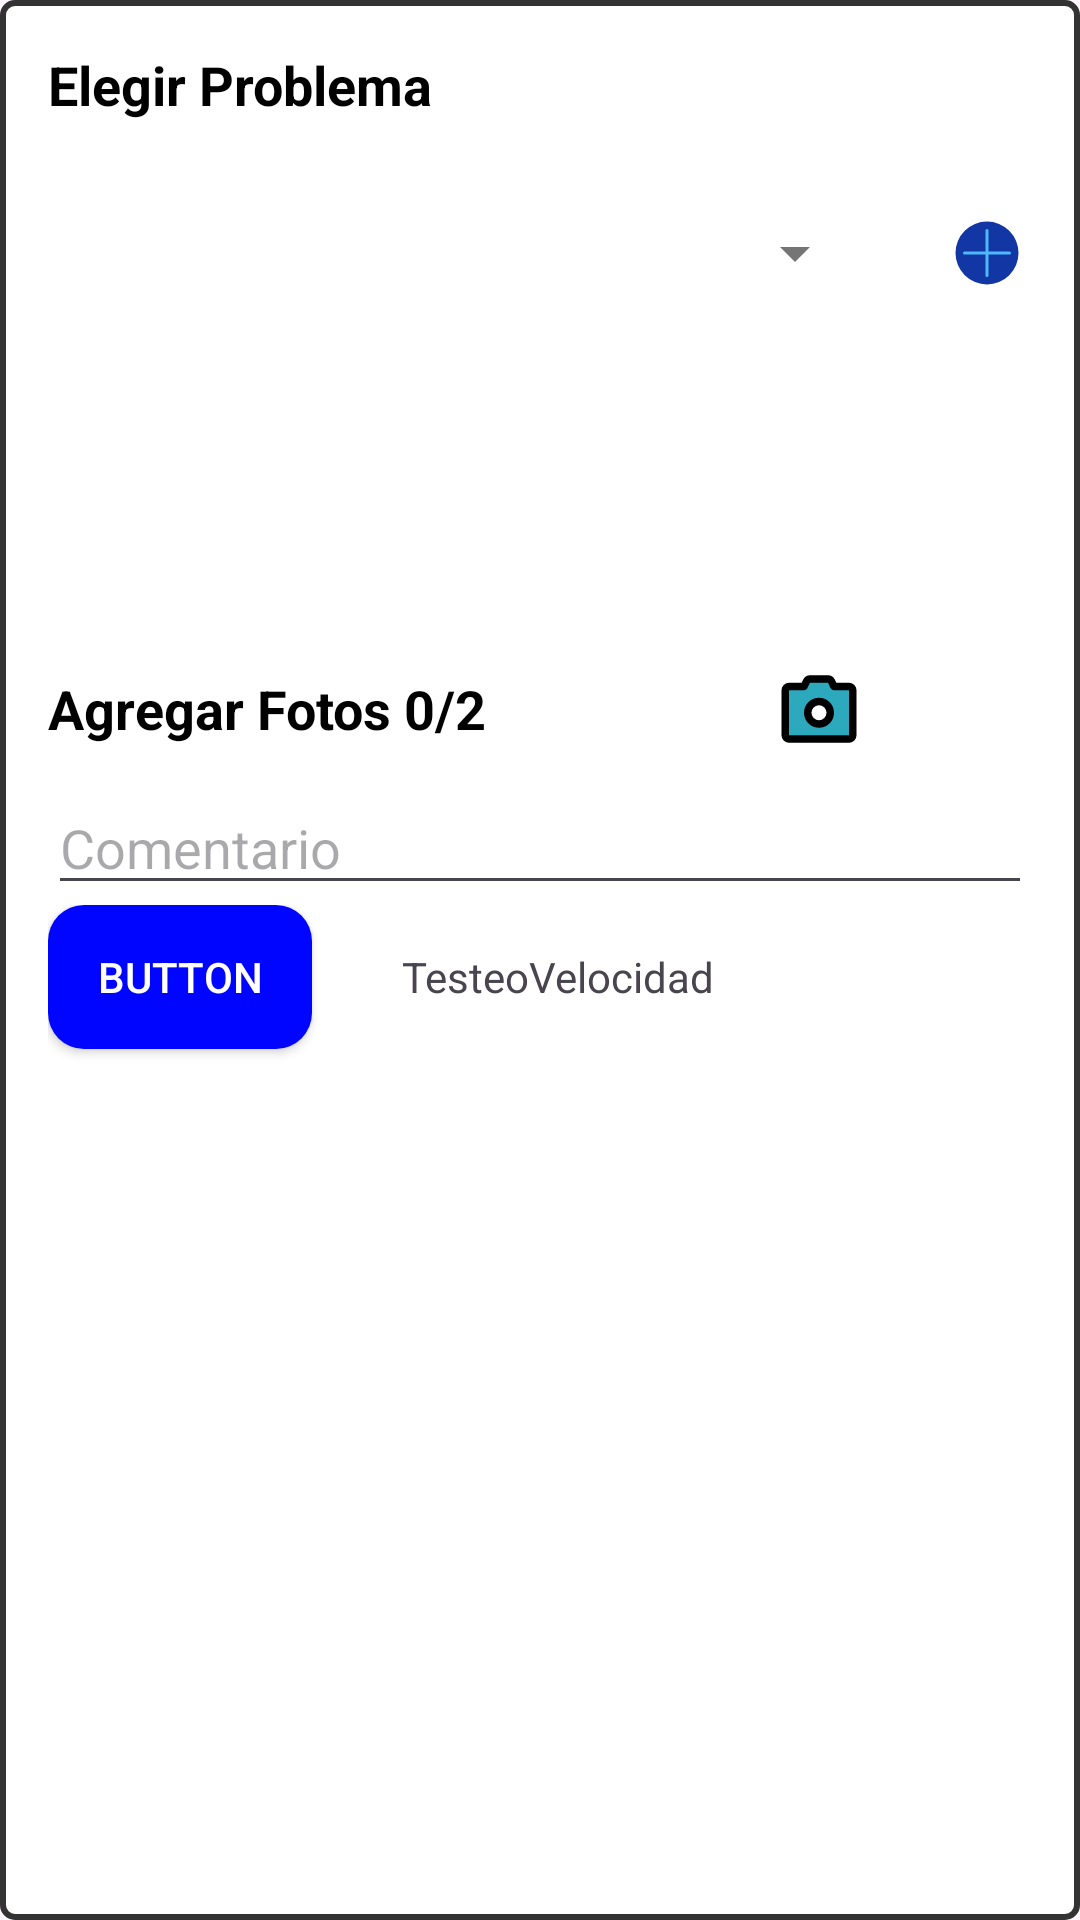

Icon bounding boxes for this 1080px x 1920px phone screenshot, format (x1, y1, x2, y2):
add: (955, 221, 1019, 285)
camera: (781, 675, 857, 743)
